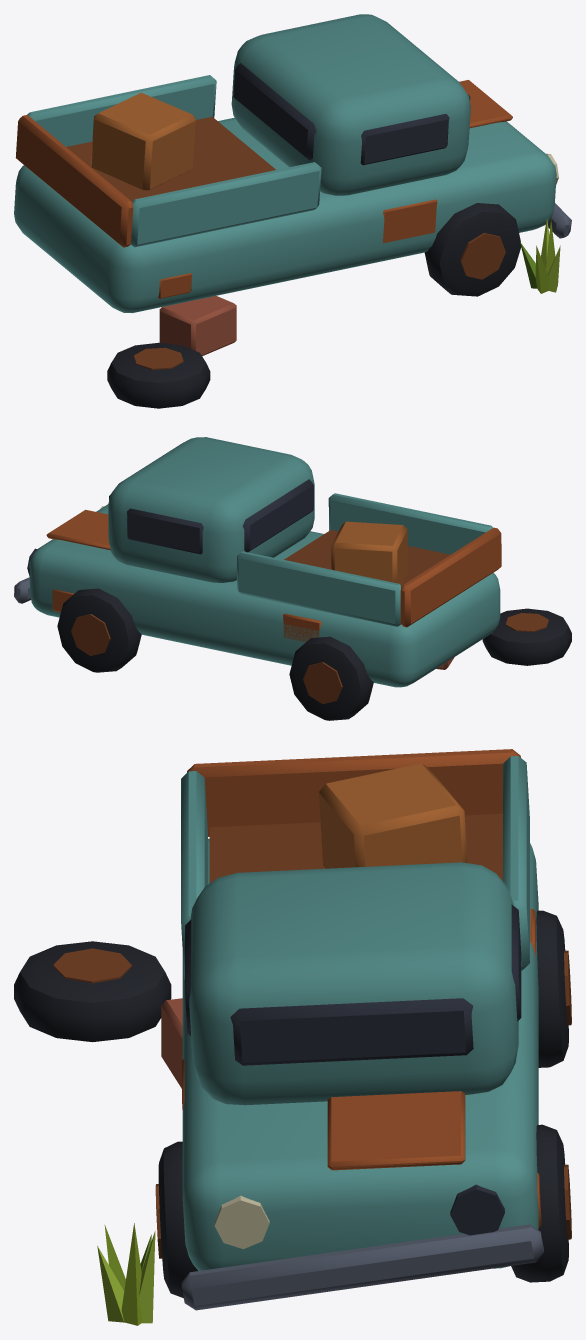
Rendered from p_wreck_2.glb.
The picture shows the model from 3 angles, top to bottom: view 1: azimuth 30°, elevation 25°; view 2: azimuth 150°, elevation 25°; view 3: azimuth 270°, elevation 25°; orthographic projection. The views are drawn at different scales.
Parts seen in each view (by area): view 1: body; view 2: body; view 3: body.
Boxes of the visible parts, <box> form: body: <box>14,14,571,408</box>; body: <box>14,437,571,720</box>; body: <box>14,749,571,1325</box>.
Size of the model in its own units: 4.41 by 1.89 by 2.84.
